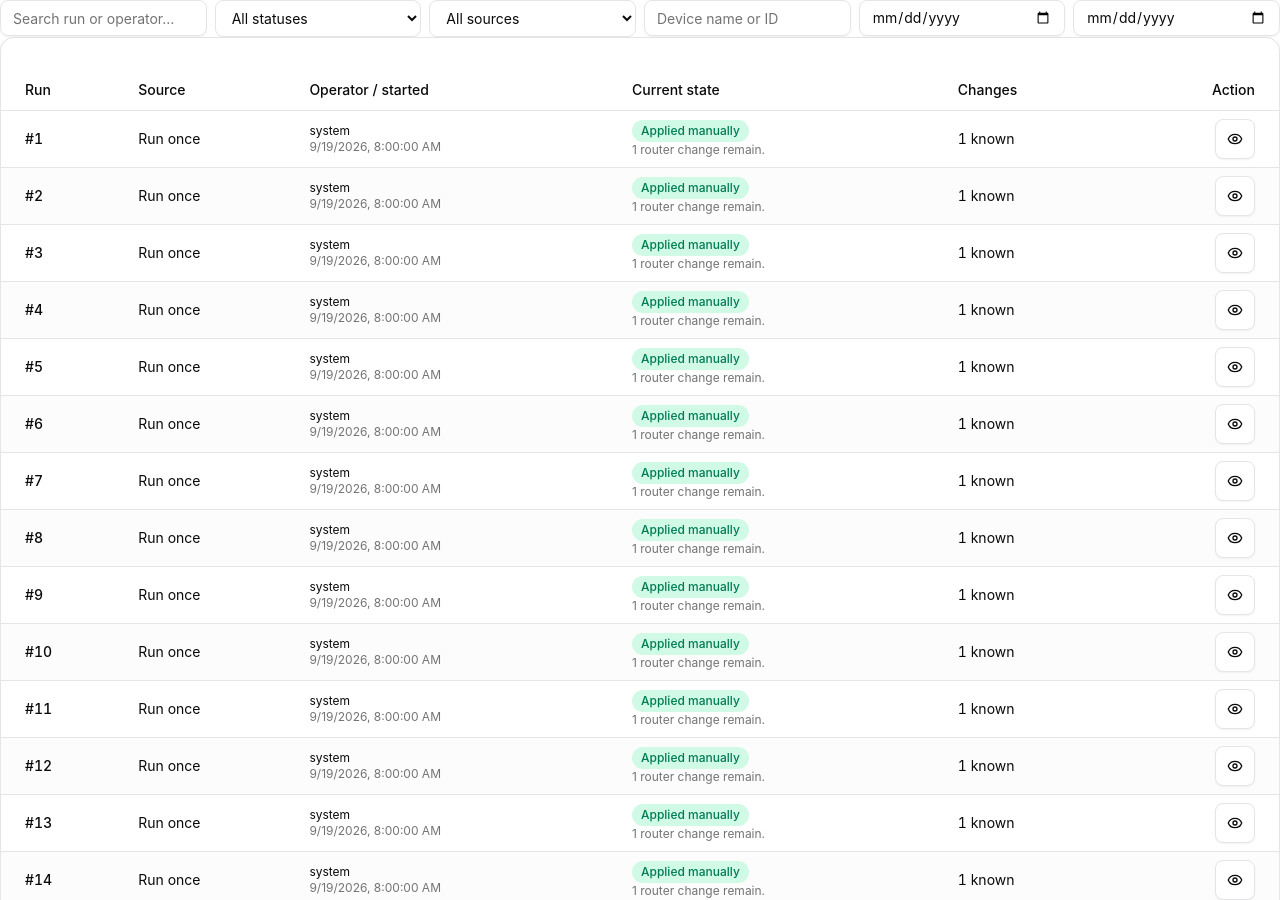
Test case: keeps a 150-run refresh to one list request and selected detail only
The width and height of the screenshot is (1280, 900).
Click the button named "Review run 1" at (1235, 138), box 1215,118 -> 1255,158
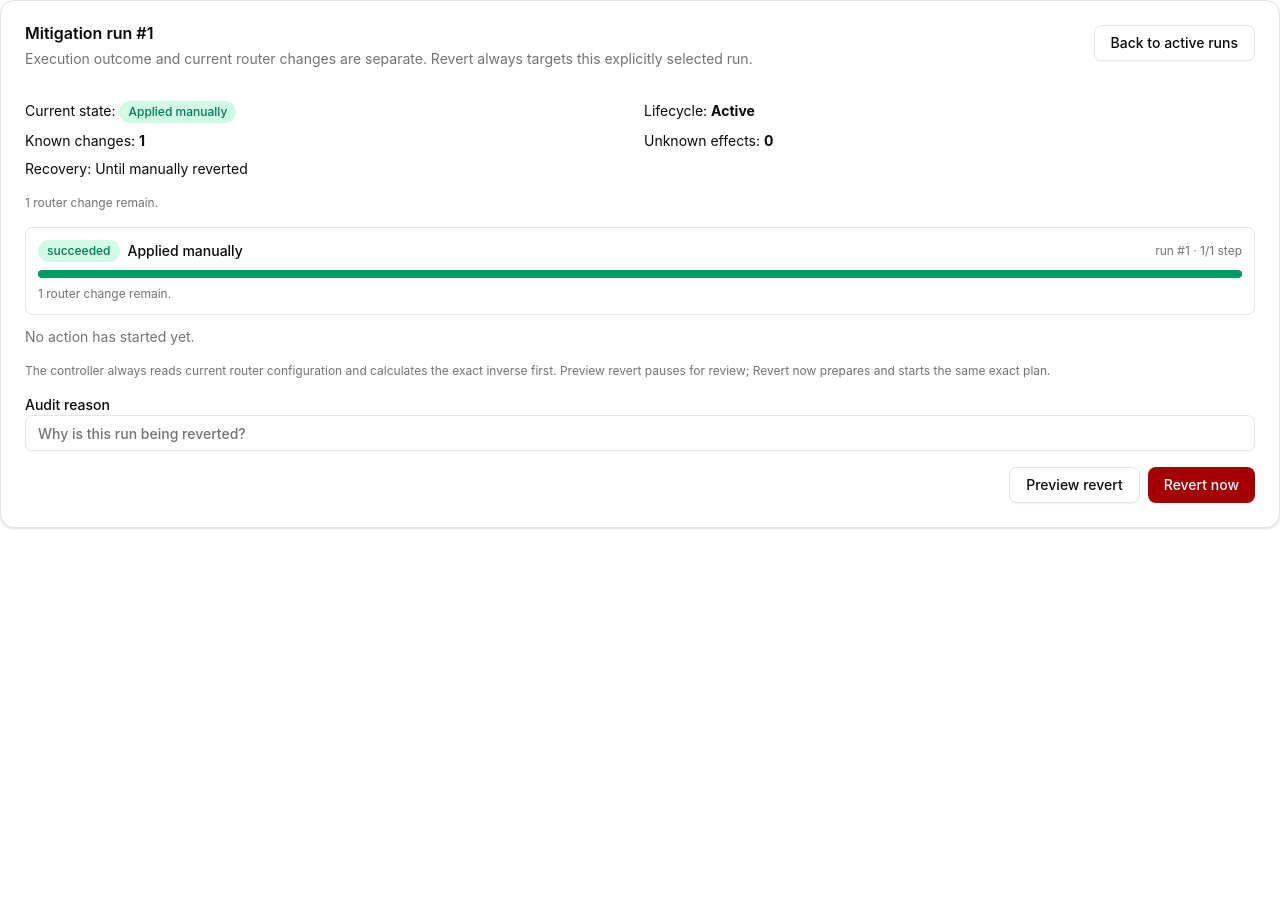
Check: the heading "Mitigation run #1" is shown, box 25,23 -> 153,43
